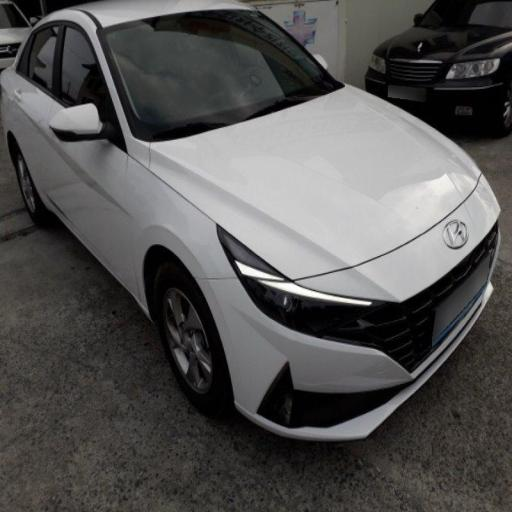dent: (158, 116, 414, 328)
